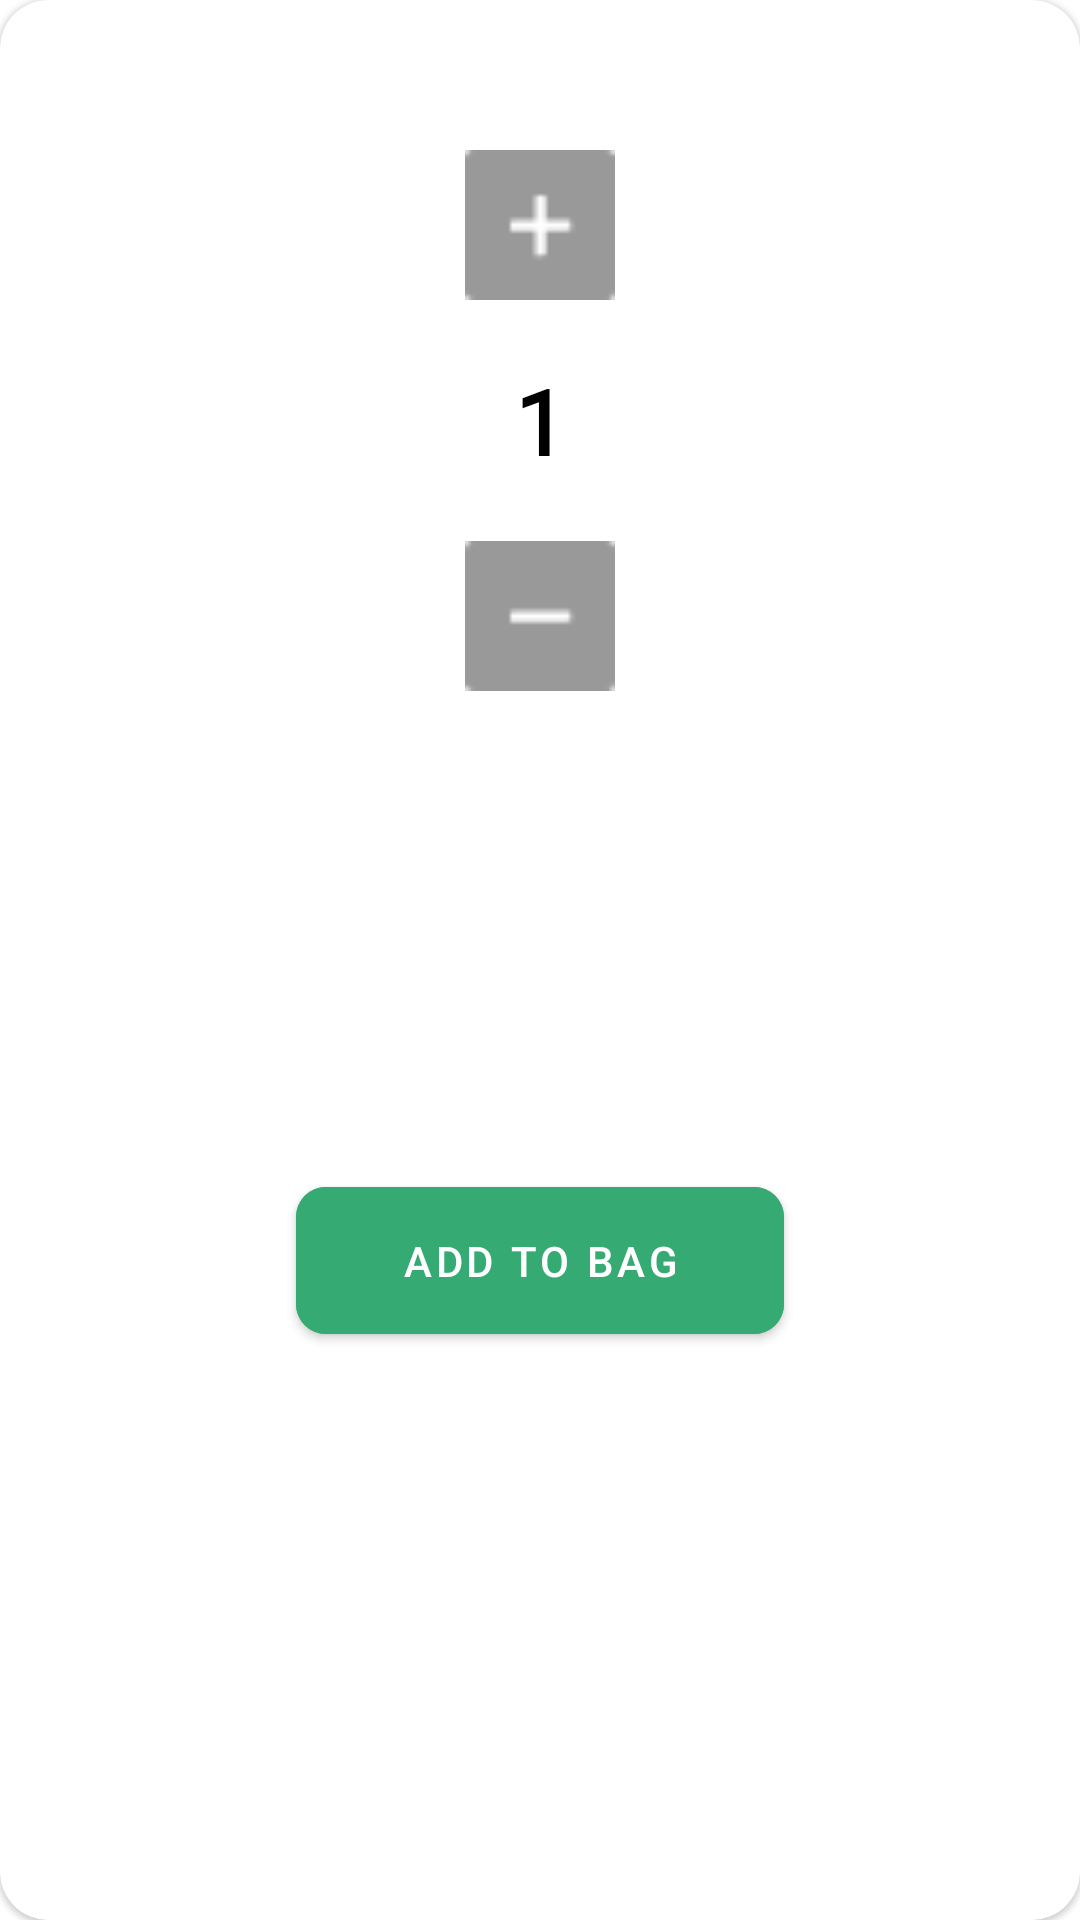

Icon click points for this 1080 x 1920 phone screenshot, format (x=x, y=y):
minus: (x=540, y=616)
plus: (x=540, y=225)
